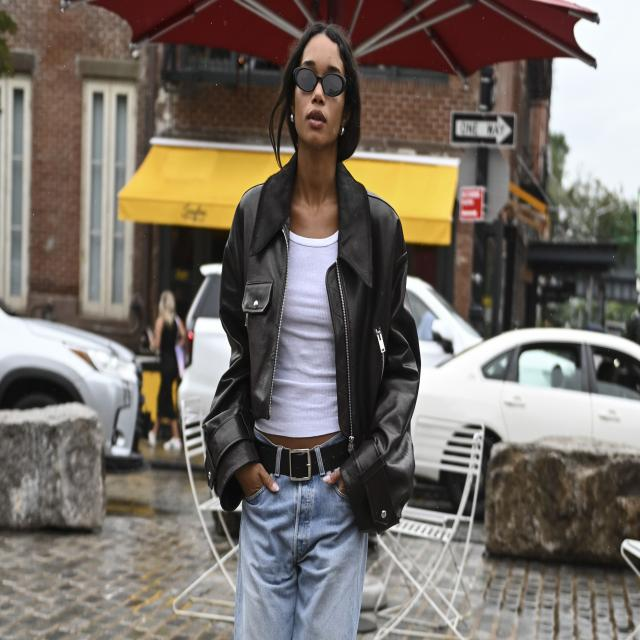Jacket: (202, 168, 426, 535)
